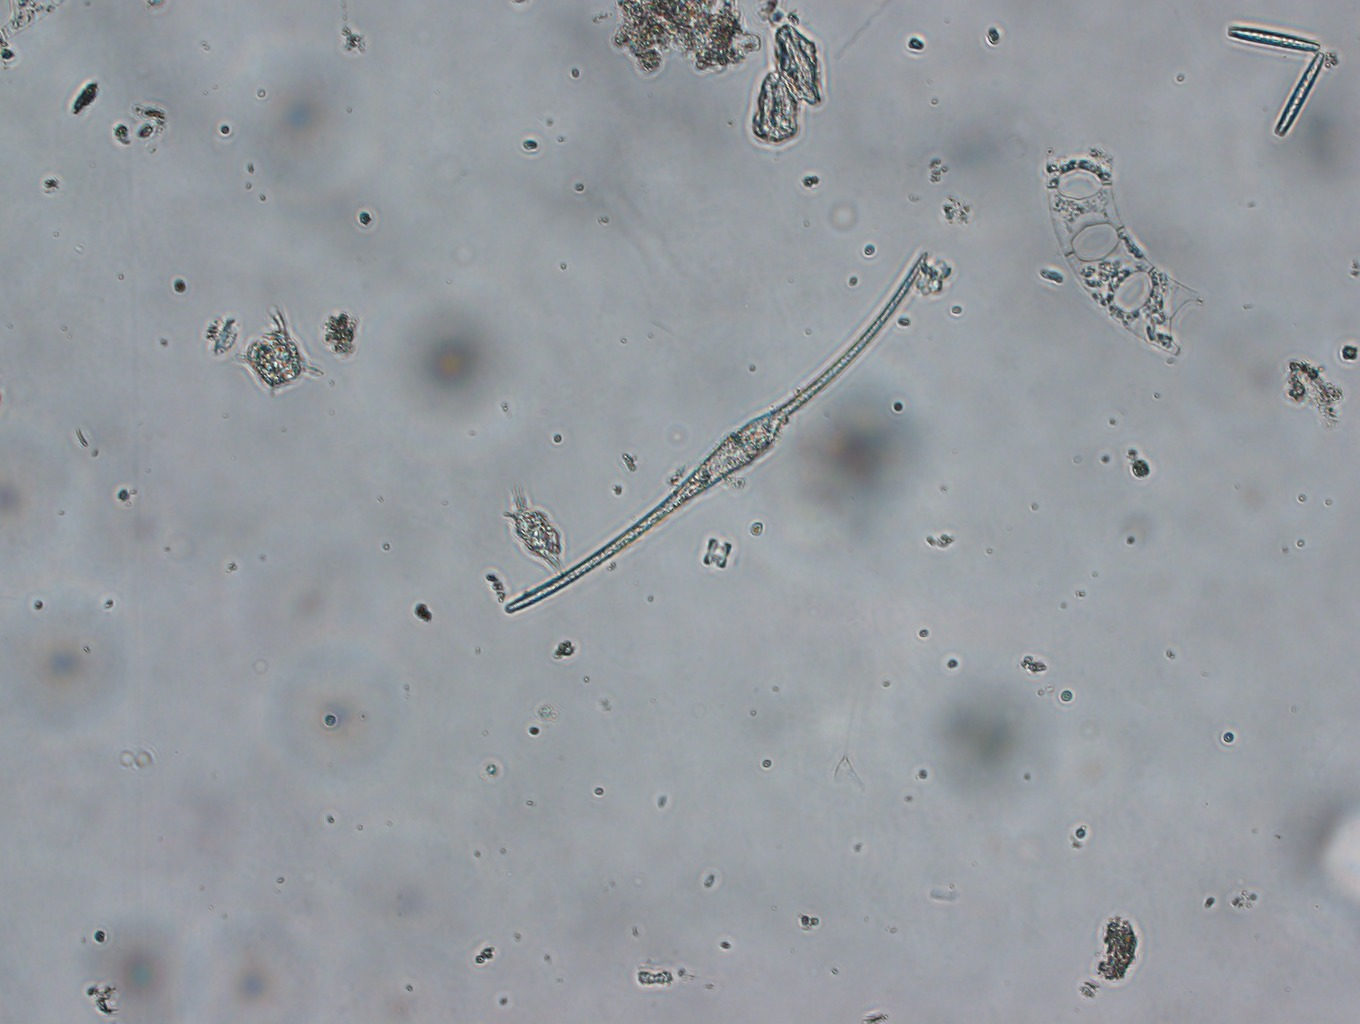ceratium fusus: (489, 239, 929, 618)
eucampia: (1030, 131, 1207, 368)
thalassionema nitzschioides: (1217, 15, 1325, 140)
